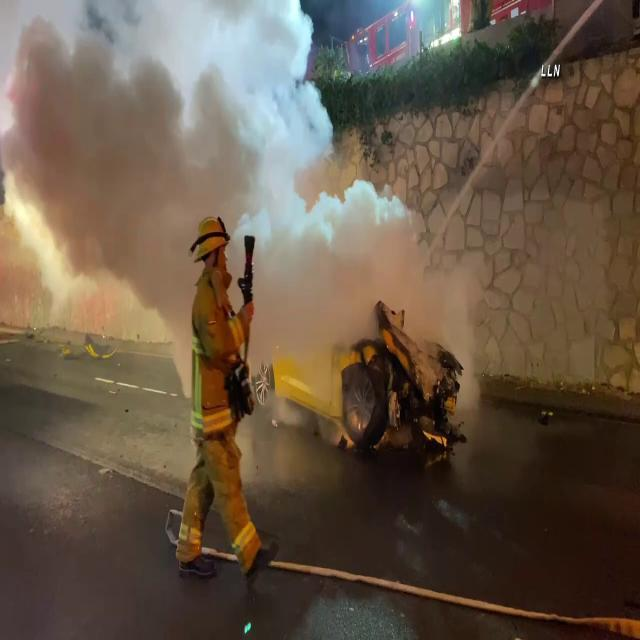Smoke: (0, 0, 328, 310), (264, 156, 476, 404)
